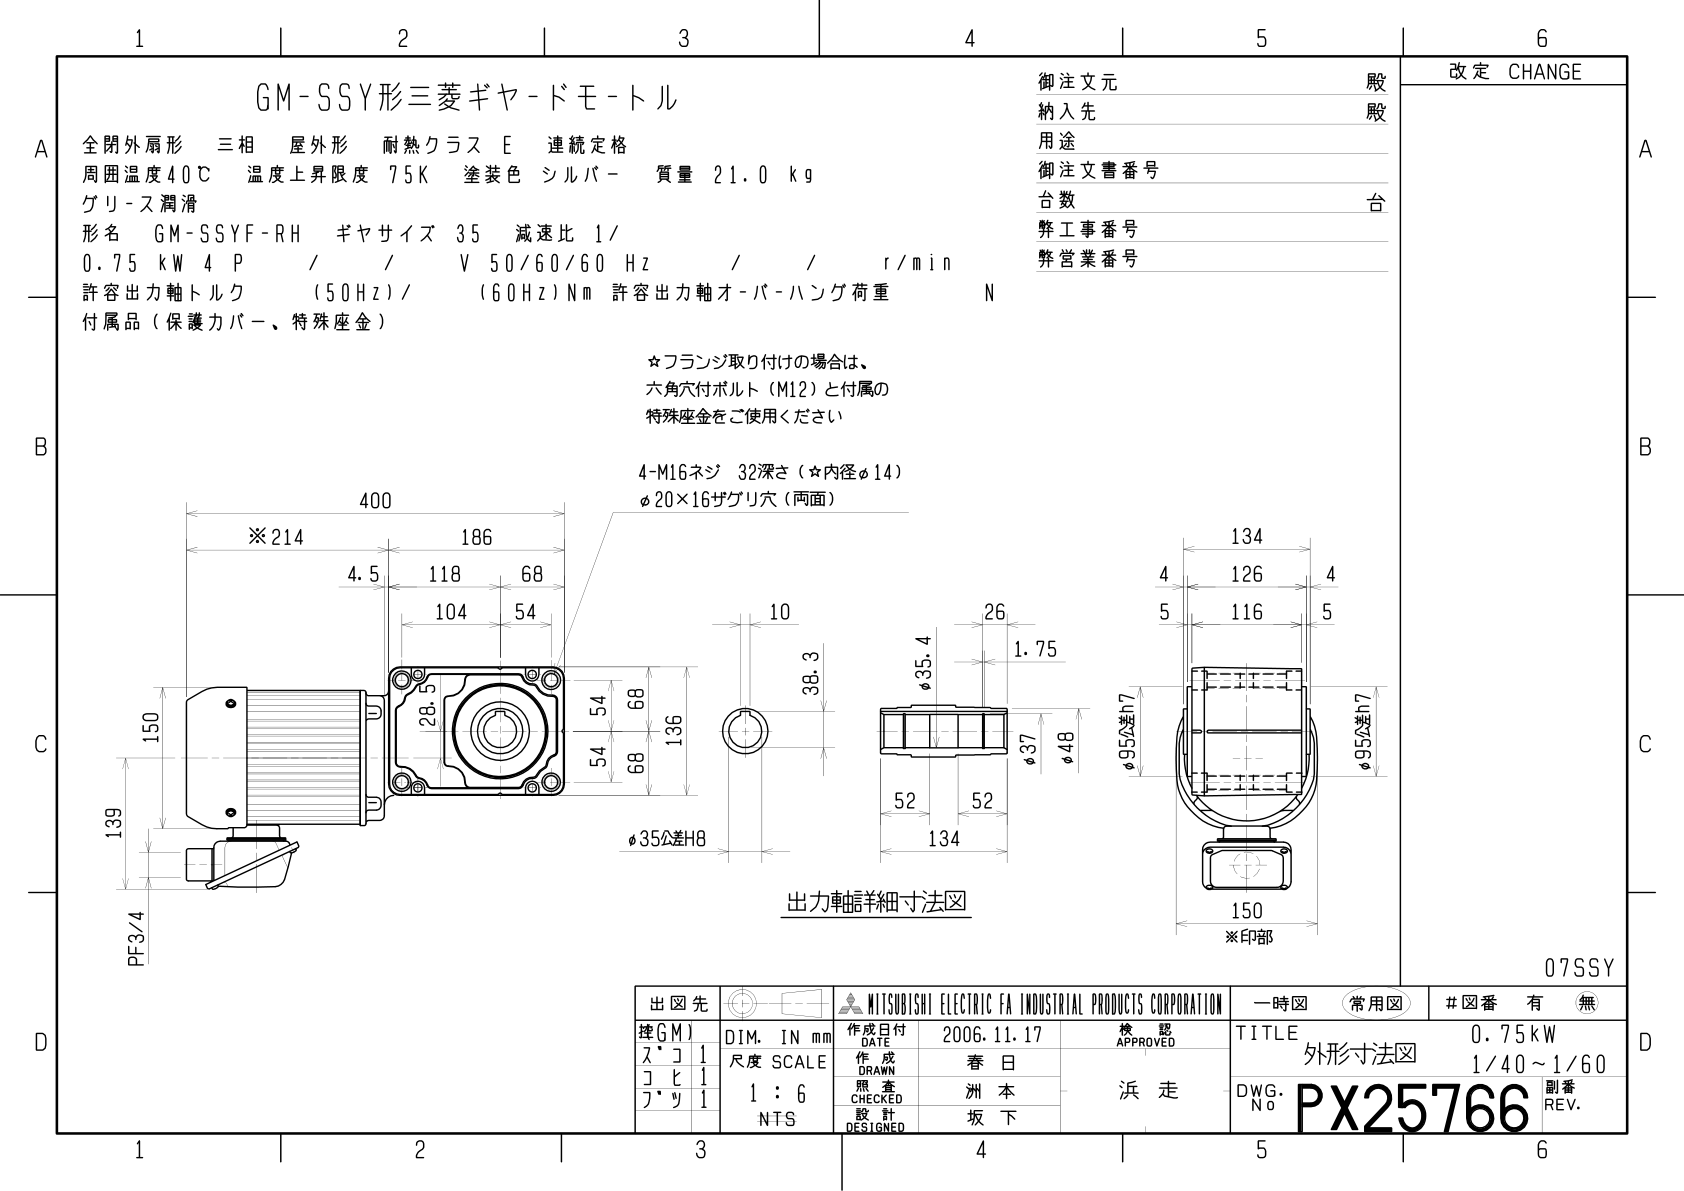GM_SSY_屋外_三相: (4, 15, 1669, 1172)
